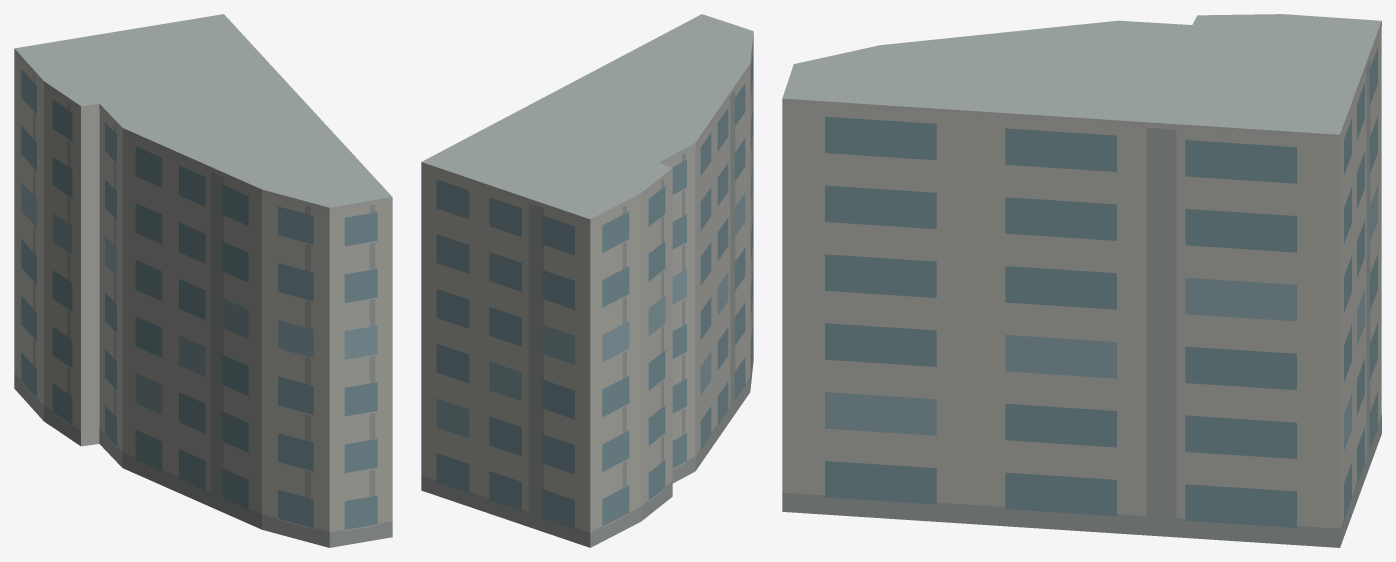
File: survey-upis-32799342.glb
3 views of the same model, side by side, from view 1: azimuth 30°, elevation 25°; view 2: azimuth 150°, elevation 25°; view 3: azimuth 270°, elevation 25° (orthographic). The views are drawn at different scales.
Parts seen in each view (by area): view 1: survey-upis-32799342.tmp; view 2: survey-upis-32799342.tmp; view 3: survey-upis-32799342.tmp.
Part boxes in pixels (x1,y1,x2,y2): survey-upis-32799342.tmp: [14, 14, 392, 547]; survey-upis-32799342.tmp: [421, 14, 753, 547]; survey-upis-32799342.tmp: [782, 14, 1381, 547].
Size of the model in its own units: 11.48 by 18.3 by 24.08.
